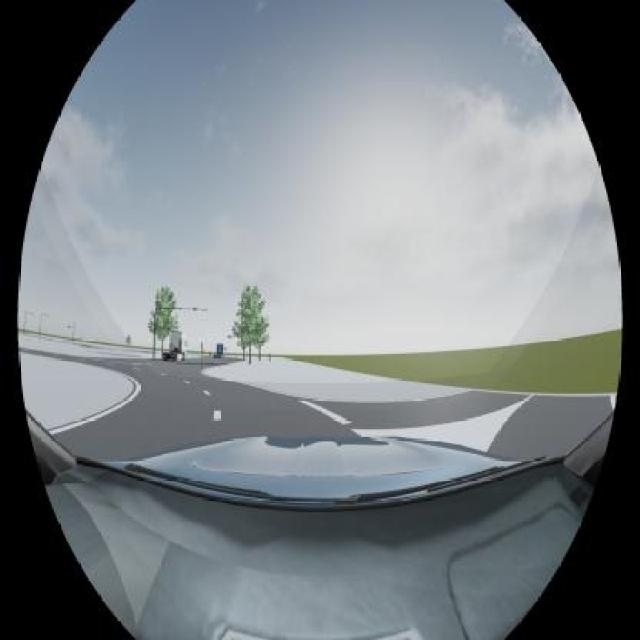forb_speed_over_60: (170, 344, 173, 348)
